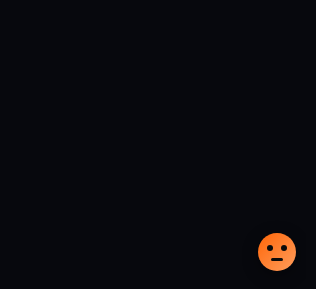
Test: UI-fix D4 · ORA Guide bubble a11y › Escape closes the bubble and returns focus to the toggle button
Click the button with test id "ora-guide-mascot-avatar" at (277, 252), box [258, 233, 296, 271]
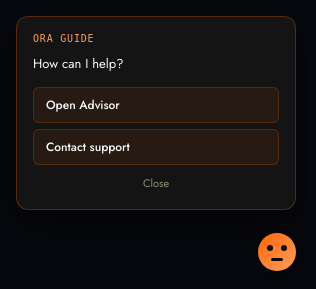
Result: the message "ORA GUIDE How can I help? Open Advisor Contact support Close" is shown at [16, 16, 296, 210]
Press Escape
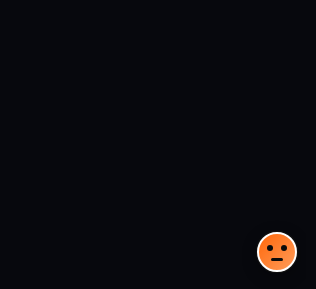
Result: the message with test id "ora-guide-bubble" is gone
